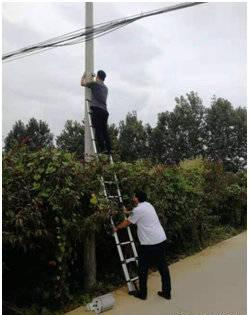安全帽、安全绳，工作服均未佩戴的工作人员: (80, 69, 114, 155)
安全帽、工作服均未穿戴的工作人员: (109, 190, 172, 300)
